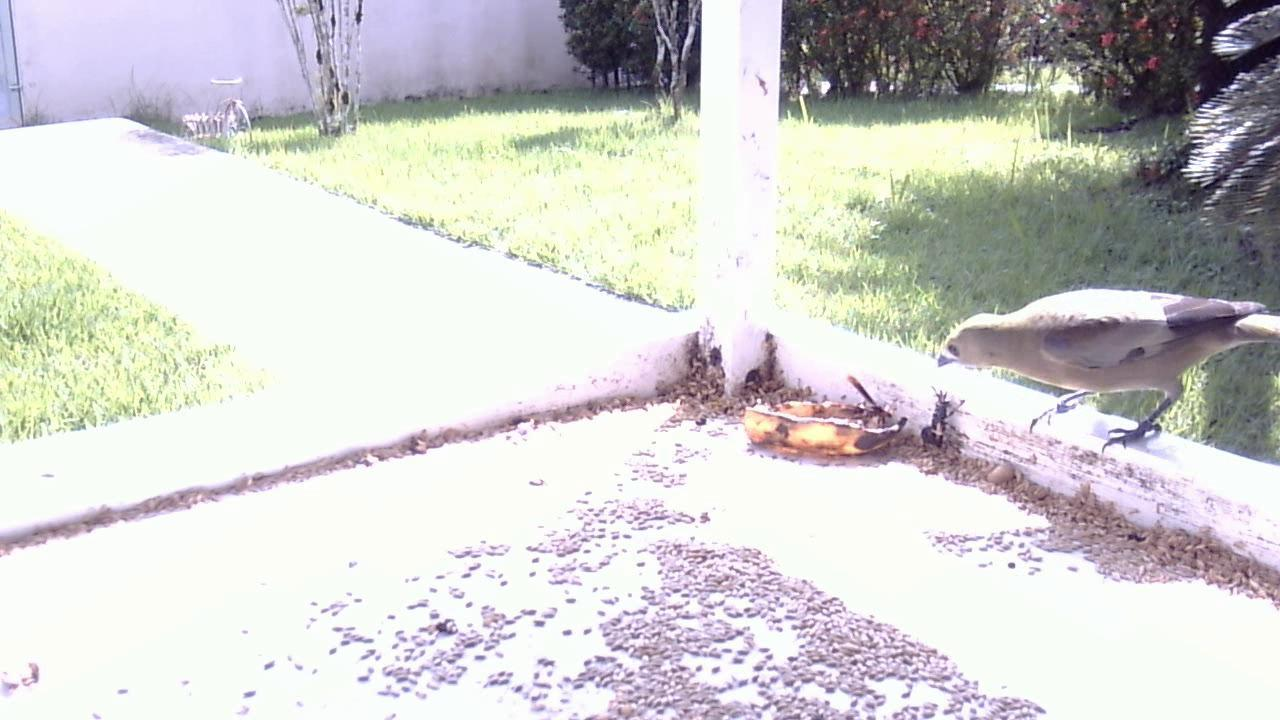sanhaco_do_coqueiro: (926, 280, 1278, 464)
